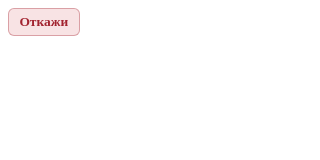
ConfirmButton › asks first and only confirms on the second click
Later steps or results of the test are not shown.
Step 1. Click the button "Откажи" → [44, 22], box [8, 8, 80, 36]
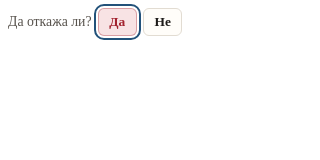
Now the text "Да откажа ли?" is shown, box [8, 14, 92, 30]
